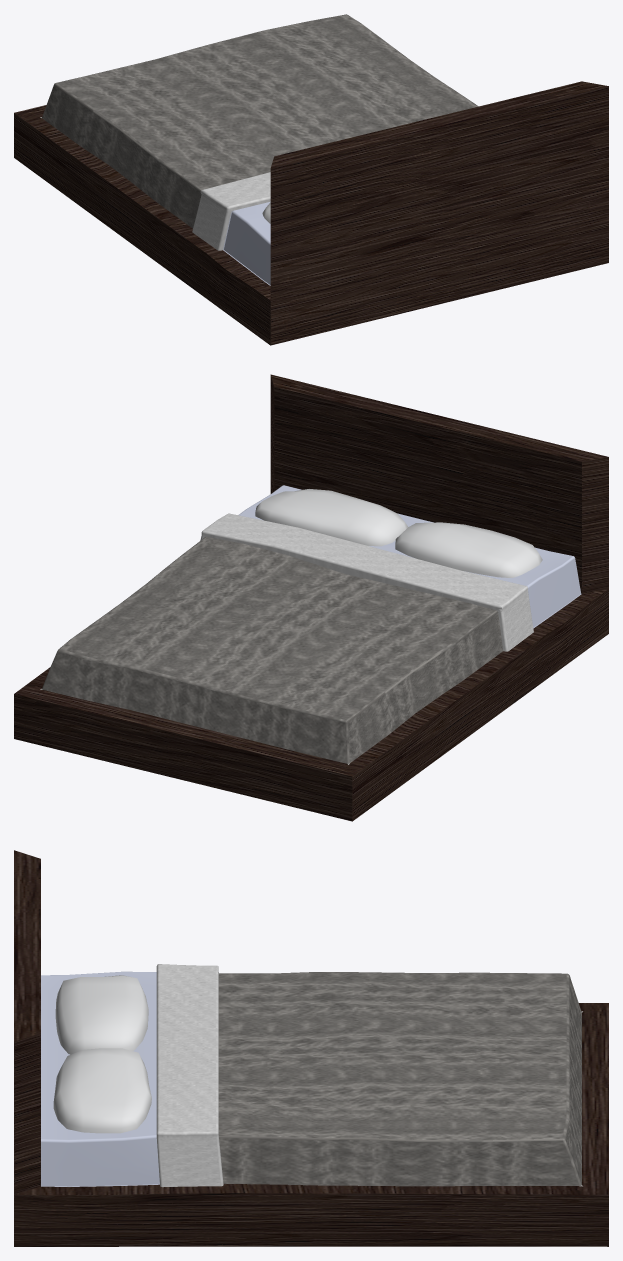
The model's file is bed new.fbx.
The picture shows the model from 3 angles, top to bottom: view 1: azimuth 30°, elevation 25°; view 2: azimuth 150°, elevation 25°; view 3: azimuth 270°, elevation 25°; orthographic projection. The views are drawn at different scales.
Parts seen in each view (by area): view 1: polySurface1; view 2: polySurface1, polySurface2; view 3: polySurface1, polySurface2.
Part boxes in pixels (box(x1,y1,x2,y2)): polySurface1: box(14, 14, 608, 345); polySurface1: box(14, 374, 608, 821); polySurface2: box(255, 489, 542, 577); polySurface1: box(14, 850, 608, 1246); polySurface2: box(53, 975, 151, 1133).
Size of the model in its own units: 4.51 by 2.25 by 5.92.
6 materials, 6 textured.
